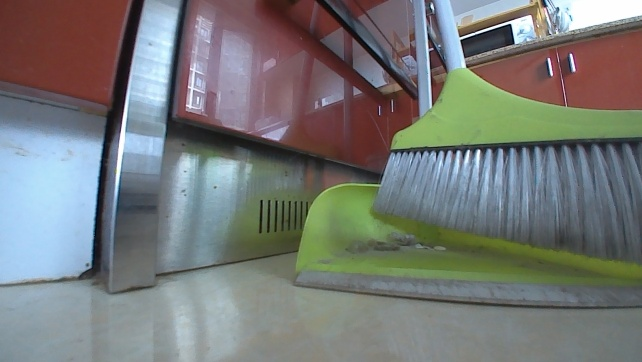cupboard: (0, 0, 641, 300)
